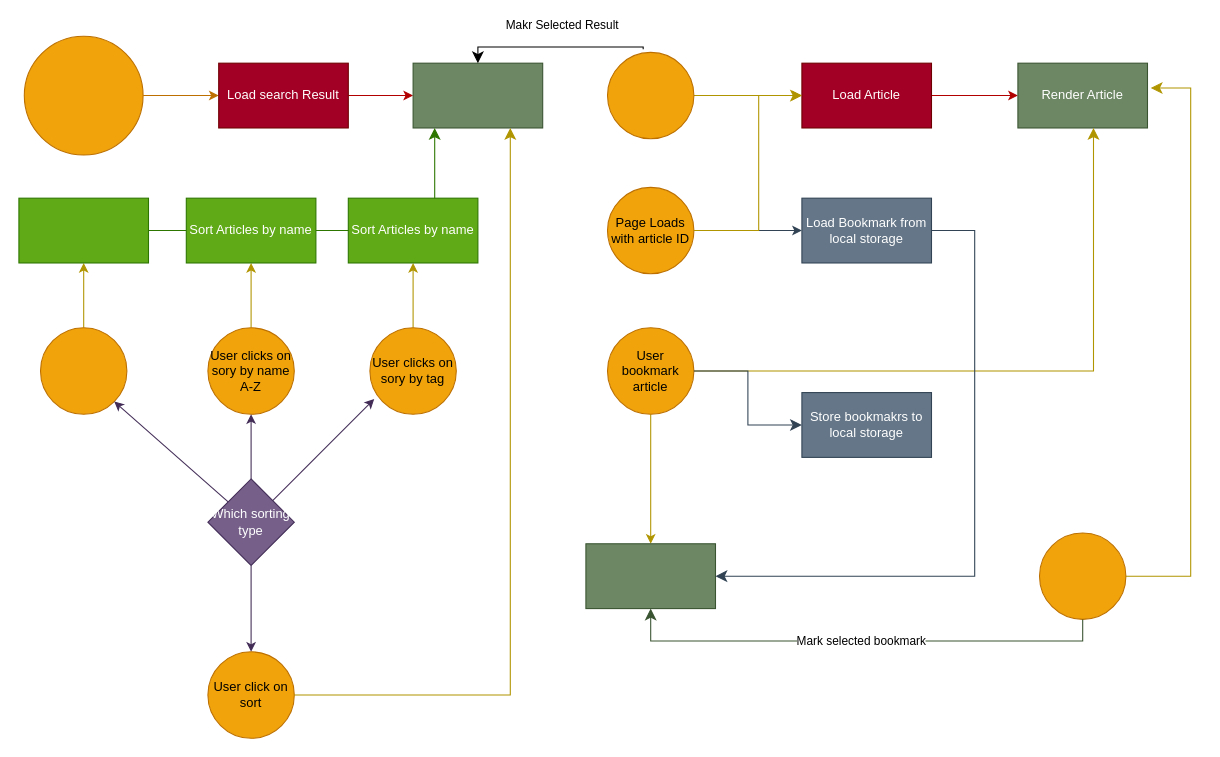
The diagram is 1220 pixels wide and 757 high, and some of its shapes have lost their labels. The centre of each missing label's shape, as x and y in pixels:
Render Bookmarks: the point at 650,576
Render Search results: the point at 477,95
Sort articles by type: the point at 83,230
User click on bookmark: the point at 1082,575
User click on sort by type: the point at 83,370
User Search: the point at 83,95
User selects article: the point at 650,95
